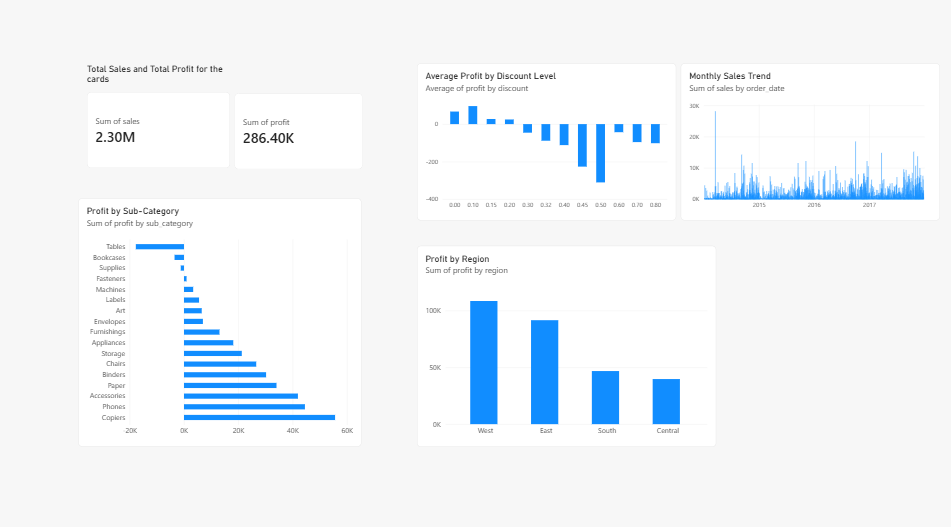

This screenshot's page, from the dashboard's own definition file:
{"tool":"powerbi","page":{"name":"Page 2","canvas":[1920,1080],"ordinal":0},"visuals":[{"type":"cardVisual","title":"Total Sales and Total Profit for the cards","fields":{"Data":["Sum(superstore_sql.sales)"]},"box":[180,133.3,286.7,210],"z":0},{"type":"cardVisual","title":"Total Sales and Total Profit for the cards","fields":{"Data":["Sum(superstore_sql.profit)"]},"box":[474,192,256,152],"z":1},{"type":"clusteredBarChart","title":"Profit by Sub-Category","fields":{"Category":["superstore_sql.sub_category"],"Y":["Sum(superstore_sql.profit)"]},"box":[163.3,403.3,566.7,496.7],"z":2},{"type":"clusteredColumnChart","title":"Average Profit by Discount Level","fields":{"Category":["superstore_sql.discount"],"Y":["Avg(superstore_sql.profit)"]},"box":[840,133.3,518,314],"z":3},{"type":"clusteredColumnChart","title":"Monthly Sales Trend","fields":{"Category":["superstore_sql.order_date"],"Y":["Sum(superstore_sql.sales)"]},"box":[1368,133,518,314],"z":4},{"type":"clusteredColumnChart","title":"Profit by Region","fields":{"Category":["superstore_sql.region"],"Y":["Sum(superstore_sql.profit)"]},"box":[840,498,598,402],"z":5}]}

Visuals, with their boxes in screenshot pixels (x1, y1, x2, y2), scaled from the page's 1920x1080 canvas onto the 951x527 screenshot:
"Total Sales and Total Profit for the cards" cardVisual: (89, 65, 231, 168)
"Total Sales and Total Profit for the cards" cardVisual: (235, 94, 362, 168)
"Profit by Sub-Category" clusteredBarChart: (81, 197, 362, 439)
"Average Profit by Discount Level" clusteredColumnChart: (416, 65, 673, 218)
"Monthly Sales Trend" clusteredColumnChart: (678, 65, 934, 218)
"Profit by Region" clusteredColumnChart: (416, 243, 712, 439)
